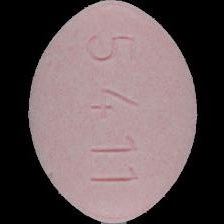0172-5411: (0, 0, 224, 224)
